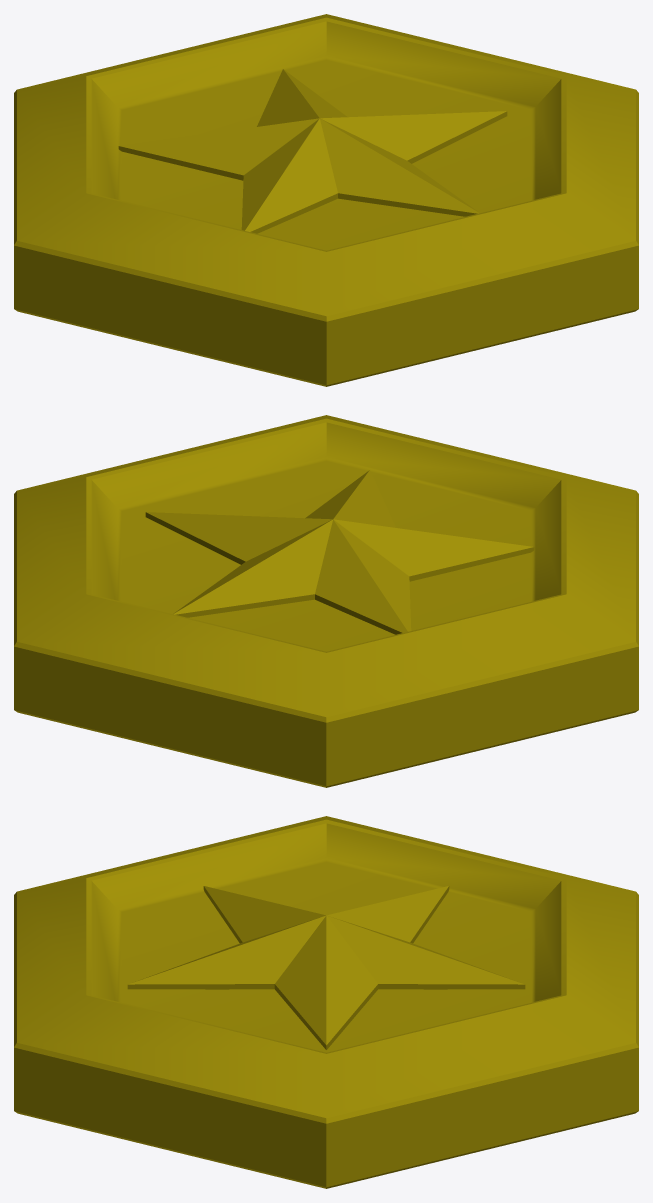
Rendered from ryz1.fbx.
3 renders of one model, top to bottom at view 1: azimuth 30°, elevation 25°; view 2: azimuth 150°, elevation 25°; view 3: azimuth 270°, elevation 25°, orthographic.
Parts seen in each view (by area): view 1: pCylinder8; view 2: pCylinder8; view 3: pCylinder8.
Boxes of the visible parts, box(x1,y1,x2,y2) form: pCylinder8: box(14, 14, 638, 386); pCylinder8: box(14, 415, 638, 787); pCylinder8: box(14, 816, 638, 1188).
Size of the model in its own units: 3.45 by 0.6318 by 2.99.
